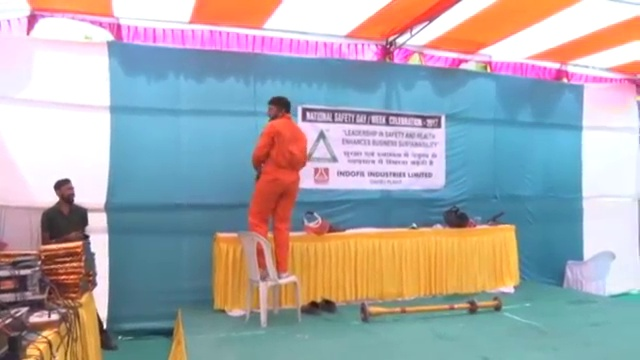helmet_off: (265, 95, 290, 121), (53, 178, 75, 205)
person: (250, 97, 309, 279), (40, 179, 94, 245)
